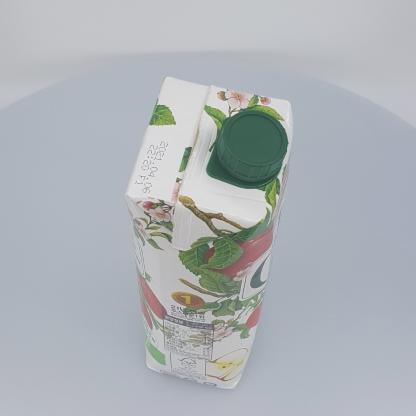------------: (125, 76, 293, 389)
